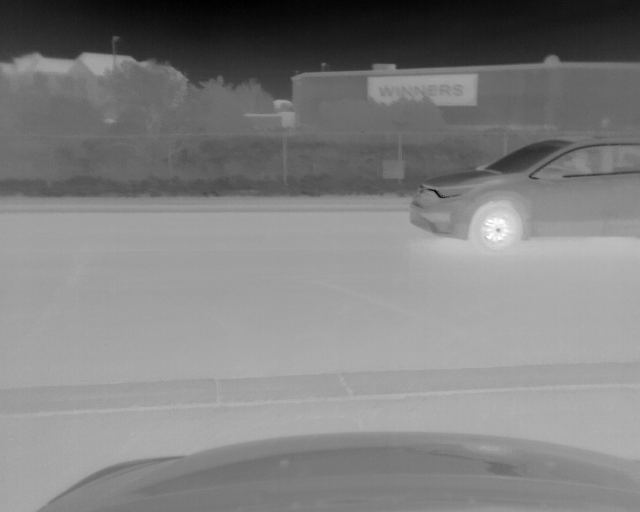car: (408, 134, 640, 250)
